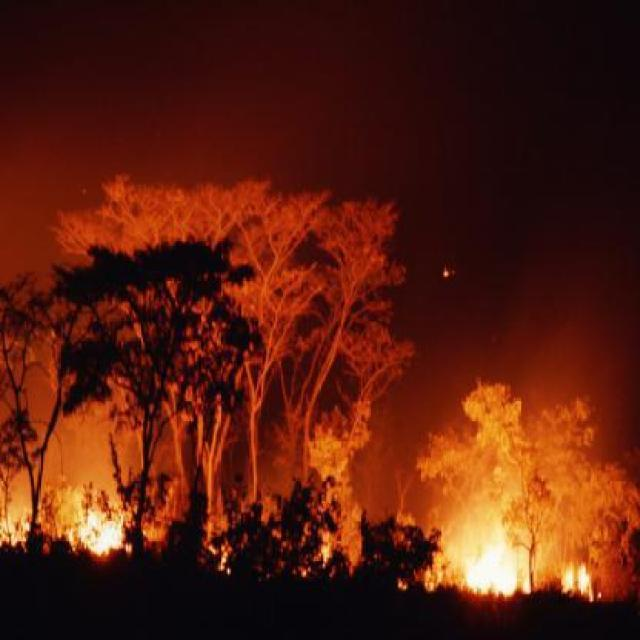Fire: (448, 500, 618, 611), (73, 489, 133, 566)
